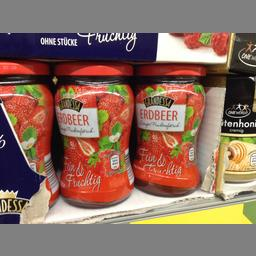jam: (54, 60, 135, 206), (132, 64, 206, 195), (0, 60, 57, 206)
